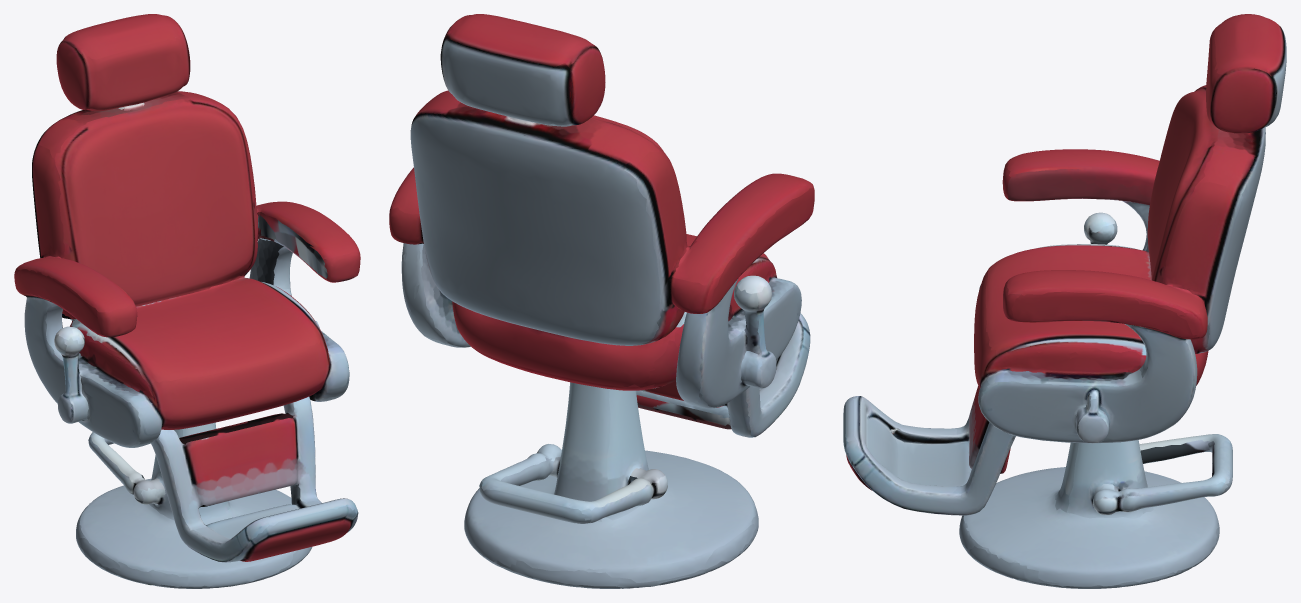
Rendered from barber_chair_tex.glb.
3 renders of one model, left to right at view 1: azimuth 30°, elevation 25°; view 2: azimuth 150°, elevation 25°; view 3: azimuth 270°, elevation 25°, orthographic. The views are drawn at different scales.
Visible parts, largest first — view 1: tmp_3rautdt.ply; view 2: tmp_3rautdt.ply; view 3: tmp_3rautdt.ply.
Part boxes in pixels (x1,y1,x2,y2): tmp_3rautdt.ply: [14, 14, 360, 588]; tmp_3rautdt.ply: [389, 14, 814, 588]; tmp_3rautdt.ply: [843, 14, 1286, 588].
Bounding box in the file's own units: 0.6004 × 0.988 × 0.7935.
1 material, 1 textured.
